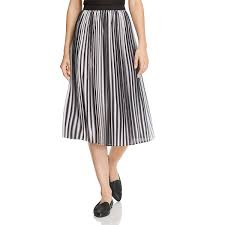C_skirt: (59, 3, 163, 152)
